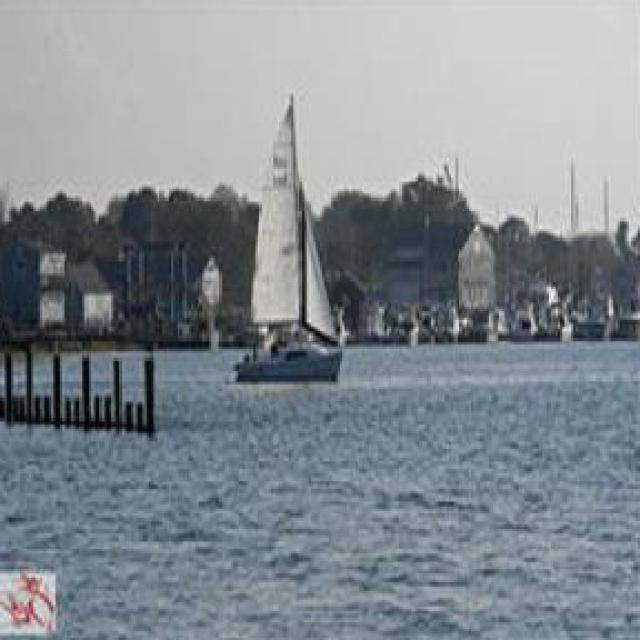navalvessels: (224, 102, 361, 394)
